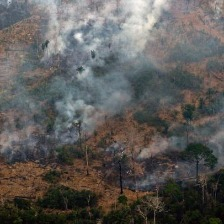incendio: (20, 1, 163, 175)
